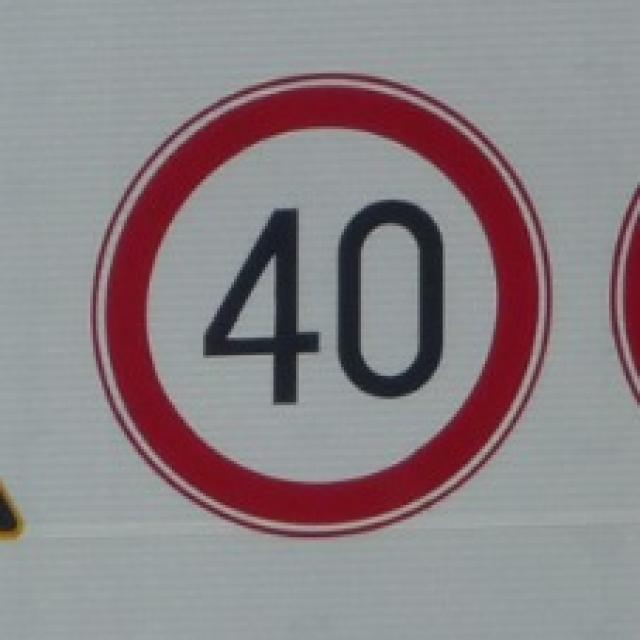Speed Limit -40-: (199, 196, 450, 408)
